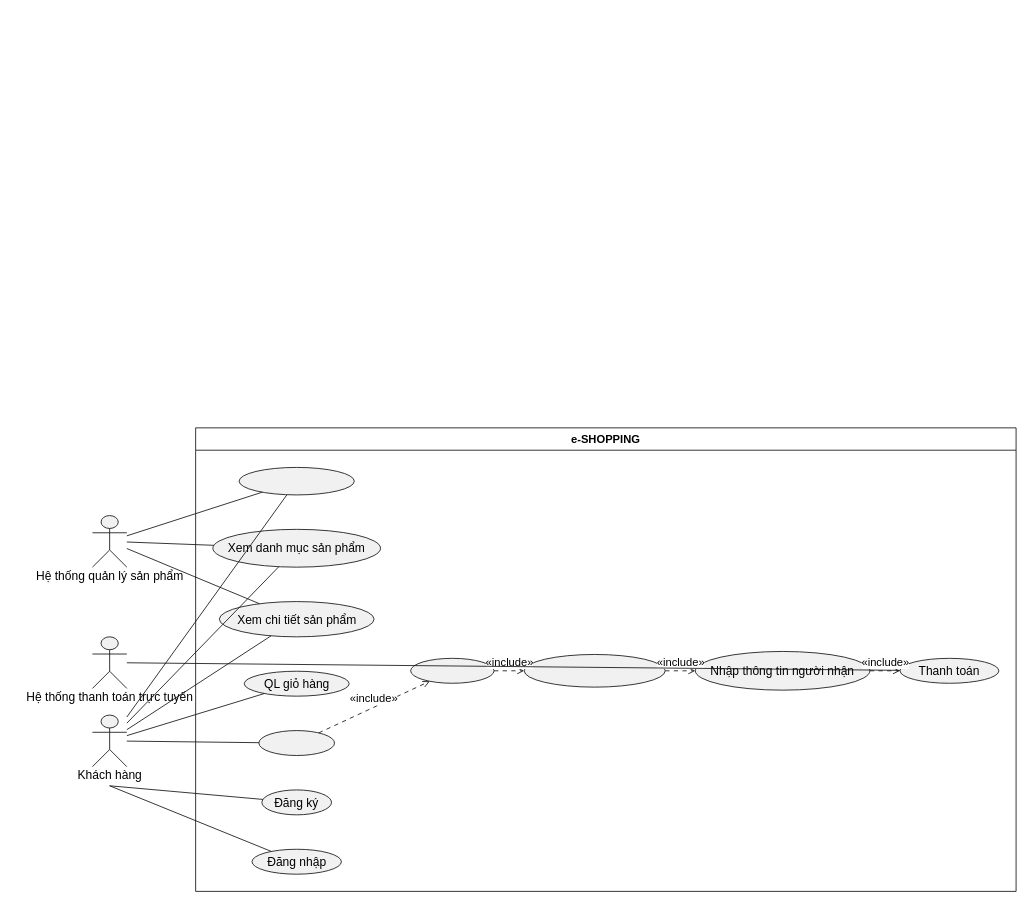
The diagram is 1031 pixels wide and 906 high, and some of its shapes have lost their labels. Each missing label, with the centre of its shape:
Chọn loại giao hàng: (x=594, y=670)
Tính tiền: (x=452, y=670)
Xem sản phẩm: (x=296, y=481)
Đặt hàng: (x=296, y=743)
